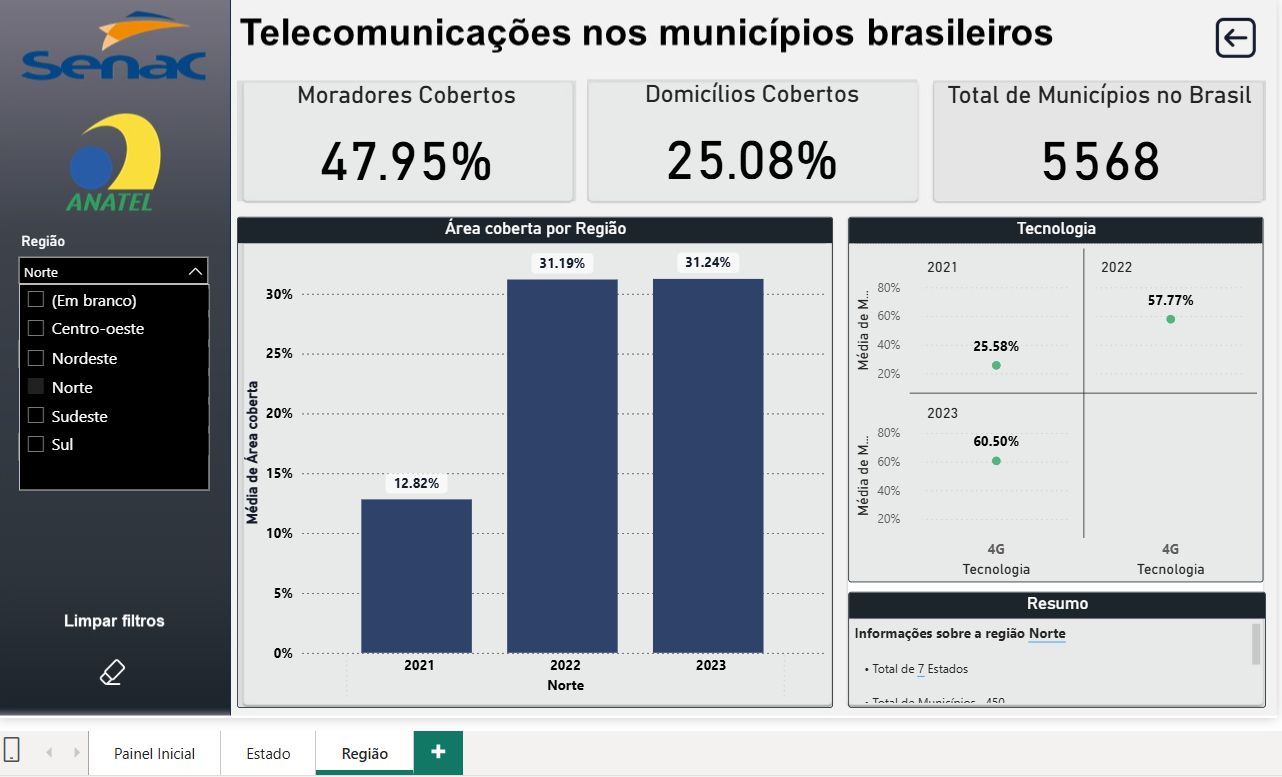

This screenshot's page, from the dashboard's own definition file:
{"tool":"powerbi","page":{"name":"Região","canvas":[1280,720],"ordinal":2},"visuals":[{"type":"slicer","fields":{"Values":["Região.Região"]},"box":[11.7,230,210,91.7],"z":0},{"type":"card","title":"Moradores Cobertos","fields":{"Values":["Avg(Fato.Moradores cobertos)"]},"box":[240,82,338.9,120.6],"z":1000},{"type":"card","title":"Domicílios Cobertos","fields":{"Values":["Avg(Fato.% Área coberta)"]},"box":[590,81.2,330,121.2],"z":2000},{"type":"card","title":"Total de Municípios no Brasil","fields":{"Values":["Median(Fato.TotalMunicipios)"]},"box":[936.2,82.5,332.5,120],"z":3000},{"type":"lineStackedColumnComboChart","title":"Área coberta por Região","fields":{"Category":["Região.Região","Calendario.Date.Variation.Hierarquia de datas.Ano"],"Y":["Avg(Fato.% Área coberta)"]},"box":[240,218.3,595.8,490.9],"z":4000},{"type":"image","box":[31.7,655,168.3,38.3],"z":5000},{"type":"image","box":[1210,15,58.3,50],"z":6000},{"type":"slicer","fields":{"Values":["Tecnologia.Tecnologia"]},"box":[11.2,313.8,210,92.5],"z":7000},{"type":"textbox","title":"Resumo","box":[851.5,593.4,417.3,115.8],"z":8000},{"type":"areaChart","title":"Tecnologia","fields":{"Y":["Avg(Fato.Moradores cobertos)"],"Category":["Tecnologia.Tecnologia"],"Rows":["Calendario.Date.Variation.Hierarquia de datas.Ano"]},"box":[851.5,218.3,414.9,365.4],"z":9000},{"type":"slicer","fields":{"Values":["Operadora.Operadora"]},"box":[11.2,406.2,210,92.5],"z":10000}]}

Visuals, with their boxes on the page's 1280x720 design canvas (x1, y1, x2, y2). These are canvas units, not pixel positions in the 1282x777 screenshot, which may show the page scaled, cropped or inside an application window:
slicer - Região.Região: select_region(12, 230, 222, 322)
"Moradores Cobertos" card: select_region(240, 82, 579, 203)
"Domicílios Cobertos" card: select_region(590, 81, 920, 202)
"Total de Municípios no Brasil" card: select_region(936, 82, 1269, 202)
"Área coberta por Região" lineStackedColumnComboChart: select_region(240, 218, 836, 709)
image: select_region(32, 655, 200, 693)
image: select_region(1210, 15, 1268, 65)
slicer - Tecnologia.Tecnologia: select_region(11, 314, 221, 406)
"Resumo" textbox: select_region(852, 593, 1269, 709)
"Tecnologia" areaChart: select_region(852, 218, 1266, 584)
slicer - Operadora.Operadora: select_region(11, 406, 221, 499)
